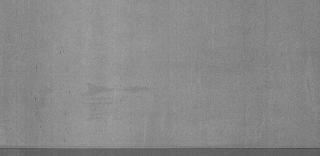oil spot: (82, 81, 150, 97)
welding line: (1, 144, 320, 154)
